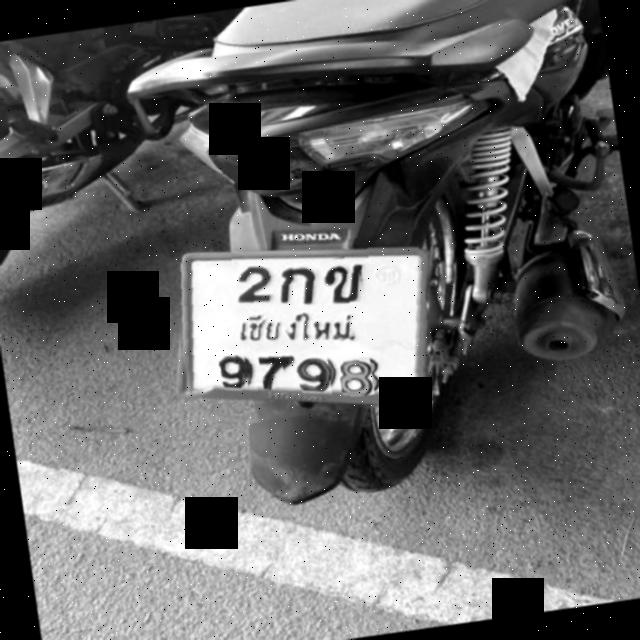letters: (275, 262, 322, 309), (292, 346, 332, 400), (322, 255, 364, 306), (232, 264, 272, 312), (338, 352, 376, 398), (218, 353, 249, 395), (258, 352, 286, 390)
license-plate: (188, 256, 421, 400)
province: (235, 302, 365, 356)
